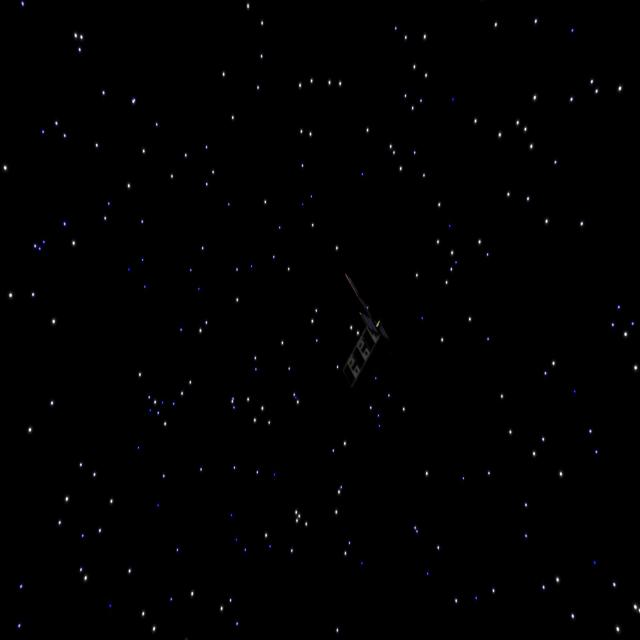satellite: (338, 277, 397, 385)
